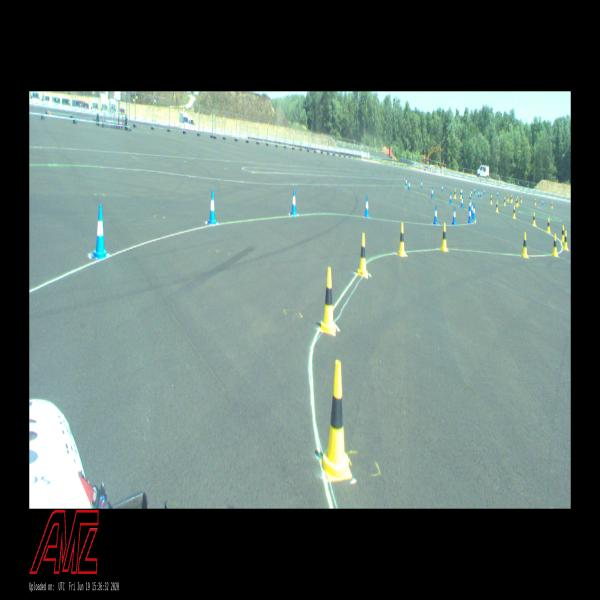blue_cone: (90, 205, 109, 259), (208, 190, 216, 224), (291, 189, 297, 215), (364, 195, 369, 218), (433, 204, 438, 224), (452, 206, 456, 225), (472, 203, 476, 220), (468, 206, 472, 223), (468, 198, 471, 213), (461, 196, 464, 208), (431, 187, 434, 198), (449, 192, 452, 203), (477, 189, 480, 198), (420, 180, 423, 189), (471, 202, 473, 215), (408, 180, 410, 190), (405, 178, 407, 187), (480, 190, 482, 198), (441, 185, 443, 193), (542, 200, 544, 204), (474, 186, 475, 194), (471, 189, 472, 197), (461, 188, 462, 195), (497, 191, 498, 197), (484, 188, 485, 194), (517, 194, 518, 199)
yellow_cone: (320, 360, 352, 481), (321, 266, 337, 334), (358, 233, 367, 276), (398, 222, 406, 256), (440, 222, 448, 251), (522, 232, 528, 258), (552, 234, 558, 256), (563, 230, 568, 250), (560, 225, 564, 242), (546, 218, 550, 233), (512, 206, 516, 219), (532, 213, 536, 225), (490, 195, 493, 204), (503, 197, 506, 205), (496, 201, 498, 212), (454, 189, 456, 199), (507, 194, 509, 202), (516, 198, 518, 206), (517, 197, 519, 205), (510, 195, 512, 202), (551, 202, 553, 208), (520, 196, 522, 202), (470, 194, 471, 204), (460, 189, 461, 198), (512, 194, 513, 202), (535, 199, 536, 205)
